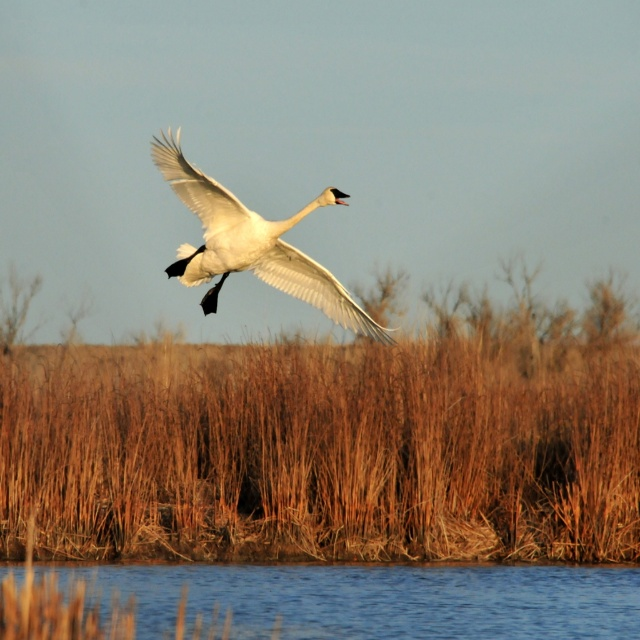Goose: (151, 125, 396, 342)
